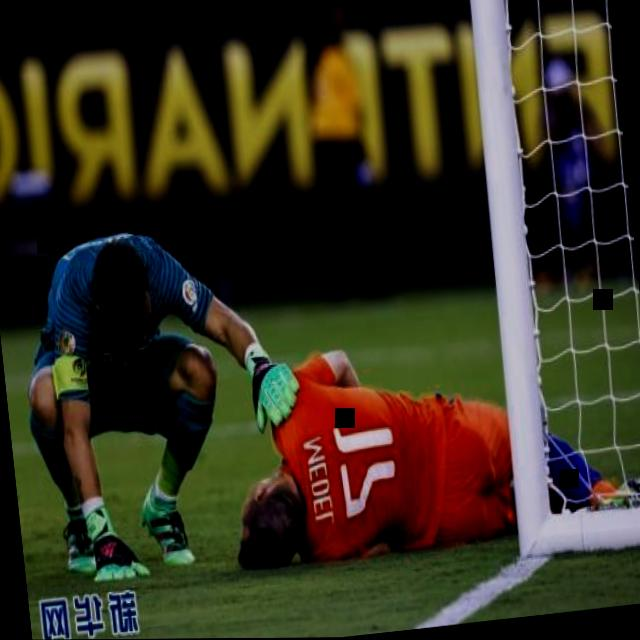Fall-Detected: (484, 0, 635, 272)
